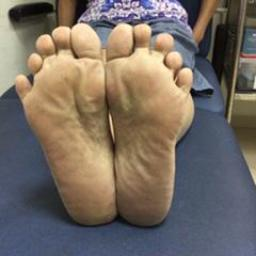Plantar View -Both Feet-: (10, 14, 204, 232)
